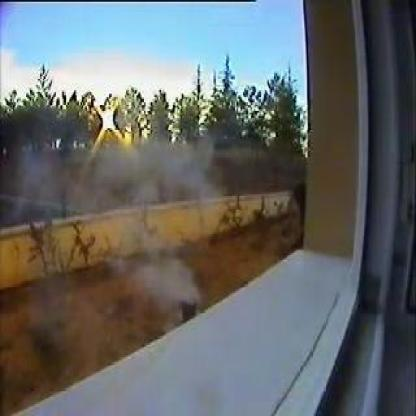-: (127, 248, 197, 303)
